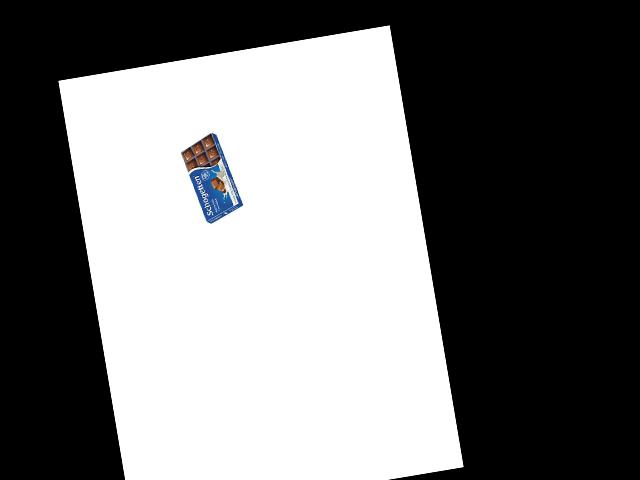chocolate: (178, 129, 238, 228)
